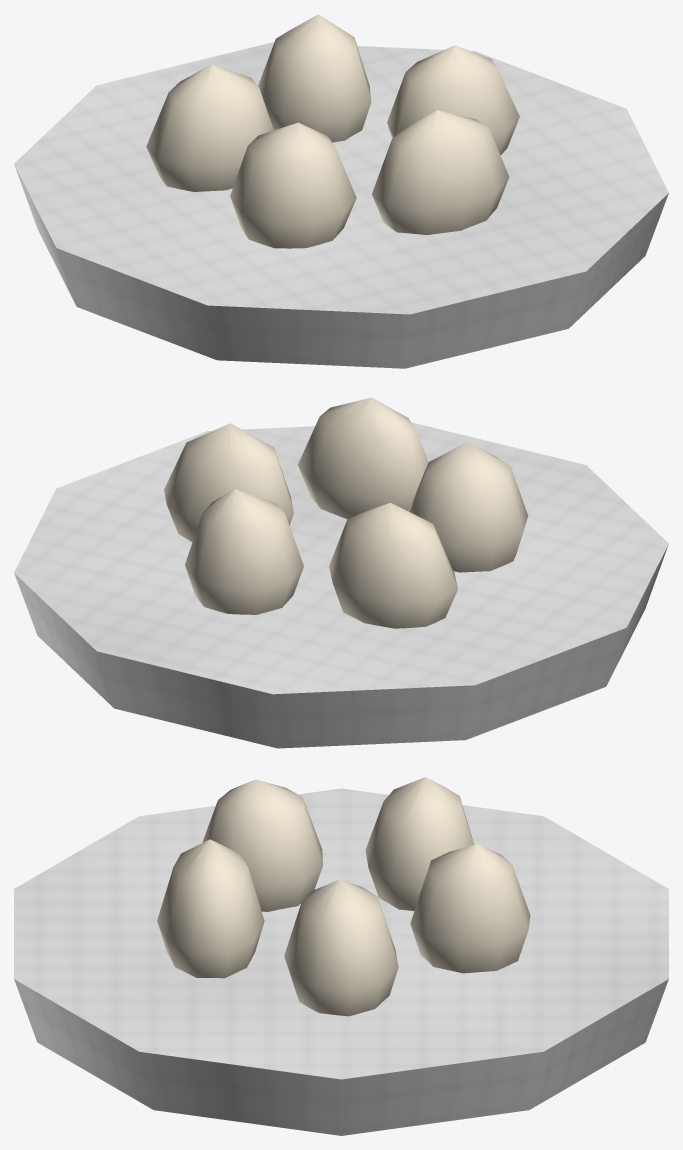
The model's file is food_eggs.obj.
3 views of the same model, one above another, from view 1: azimuth 30°, elevation 25°; view 2: azimuth 150°, elevation 25°; view 3: azimuth 270°, elevation 25° (orthographic). The views are drawn at different scales.
Parts seen in each view (by area): view 1: part_000_hay, egg_155, egg_119, egg_83, egg_47, egg_11; view 2: part_000_hay, egg_83, egg_155, egg_47, egg_119, egg_11; view 3: part_000_hay, egg_47, egg_11, egg_155, egg_119, egg_83.
Part boxes in pixels (left/top/right/bottom): part_000_hay: left=14, top=42, right=668, bottom=368; egg_155: left=372, top=110, right=509, bottom=234; egg_119: left=230, top=122, right=356, bottom=248; egg_83: left=146, top=64, right=273, bottom=191; egg_47: left=258, top=14, right=371, bottom=142; egg_11: left=387, top=45, right=519, bottom=155; part_000_hay: left=14, top=422, right=668, bottom=748; egg_83: left=329, top=503, right=457, bottom=628; egg_155: left=298, top=397, right=428, bottom=518; egg_47: left=185, top=489, right=303, bottom=614; egg_119: left=408, top=442, right=528, bottom=572; egg_11: left=164, top=423, right=293, bottom=542; part_000_hay: left=14, top=788, right=668, bottom=1135; egg_47: left=410, top=844, right=530, bottom=973; egg_11: left=284, top=880, right=398, bottom=1016; egg_155: left=157, top=839, right=264, bottom=978; egg_119: left=202, top=779, right=322, bottom=911; egg_83: left=365, top=777, right=474, bottom=910.
Bounding box in the file's own units: 0.56 × 0.16 × 0.5326.
